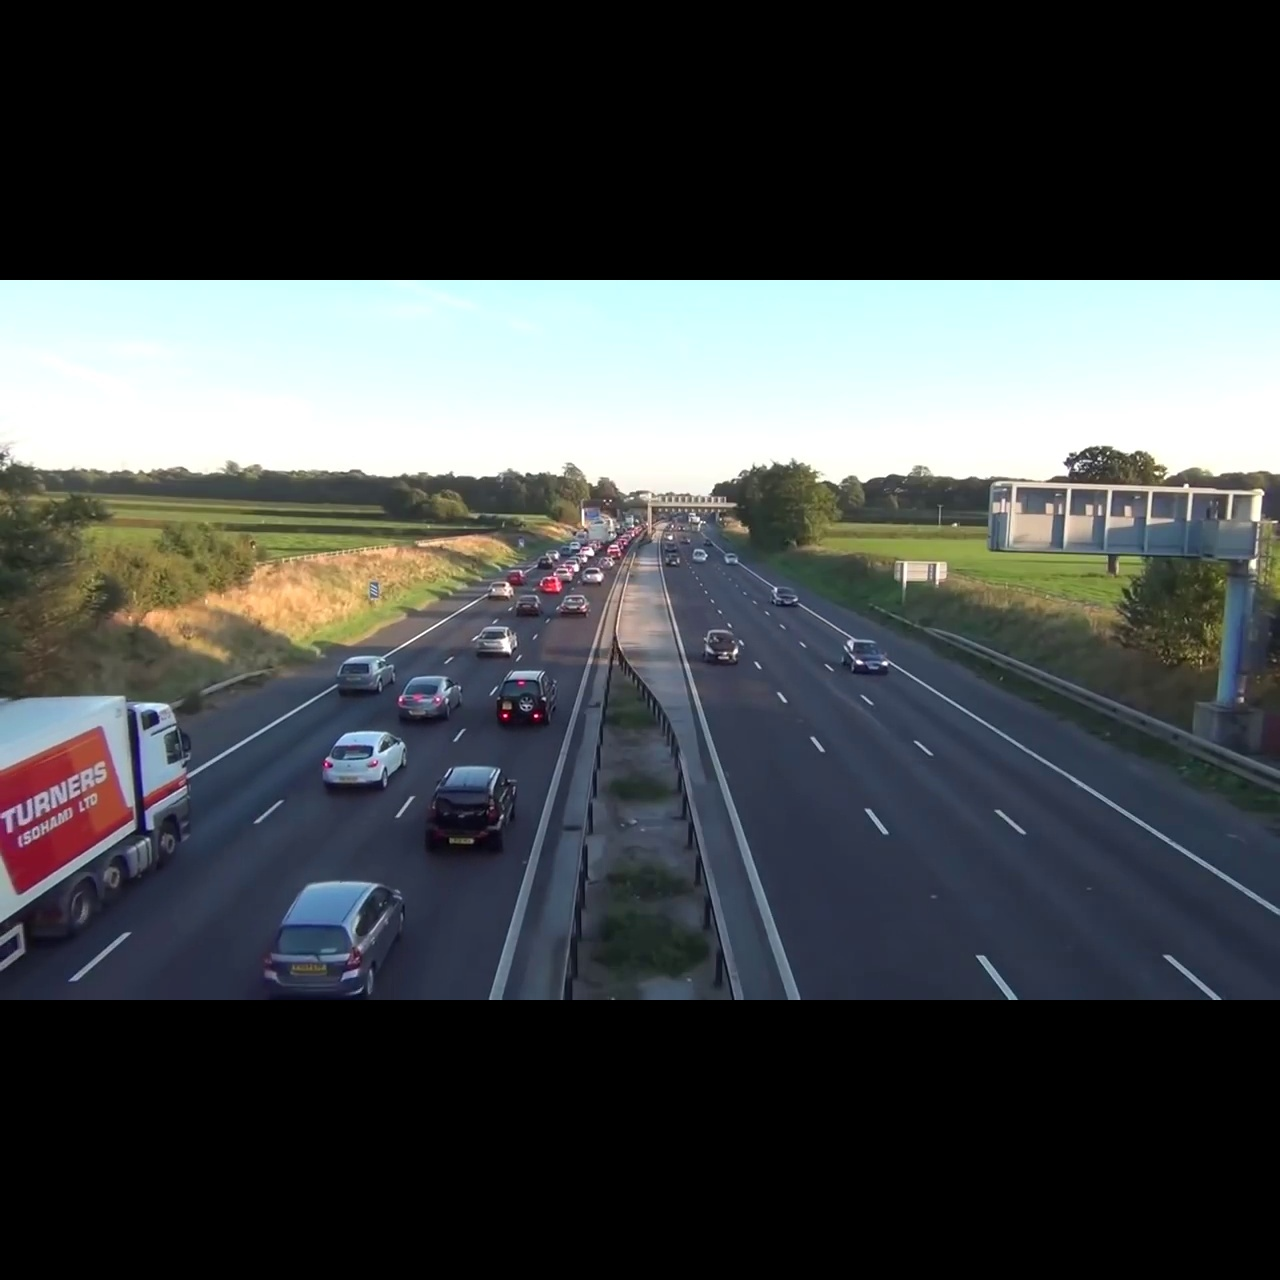vehicle: (1, 685, 203, 961), (258, 874, 415, 1000), (424, 765, 520, 862), (321, 724, 411, 794), (493, 667, 561, 731), (396, 672, 469, 728), (336, 654, 399, 696), (839, 635, 890, 678), (699, 624, 742, 669), (474, 624, 519, 661), (769, 584, 801, 608), (560, 594, 592, 619), (515, 594, 545, 618)
